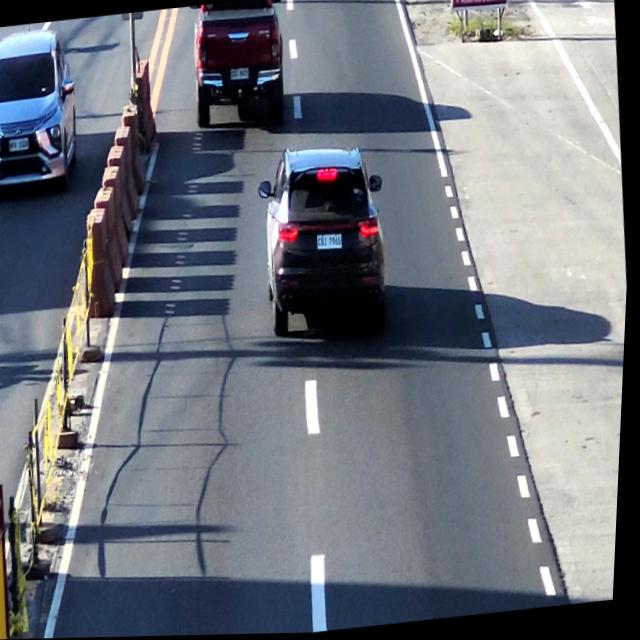Car: (256, 144, 398, 346), (181, 0, 297, 143)
License-Plate: (315, 234, 346, 253), (227, 66, 252, 83)
